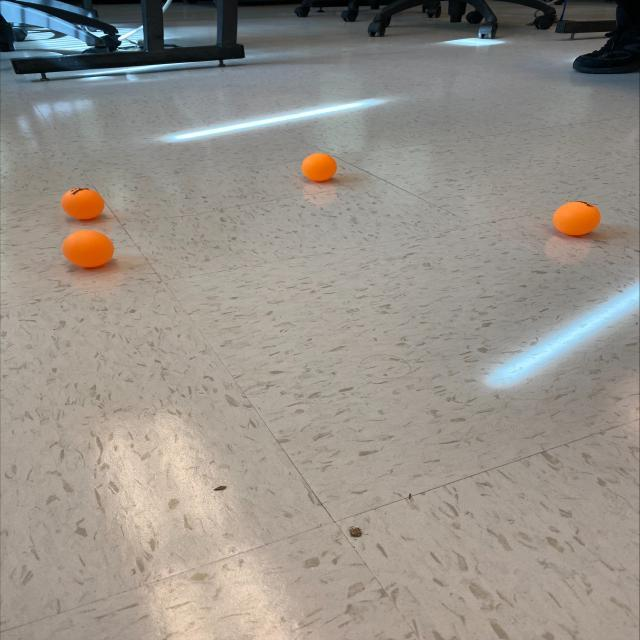ping-pong-ball: (60, 228, 116, 268), (550, 198, 602, 236), (57, 186, 106, 220), (298, 151, 340, 184)
